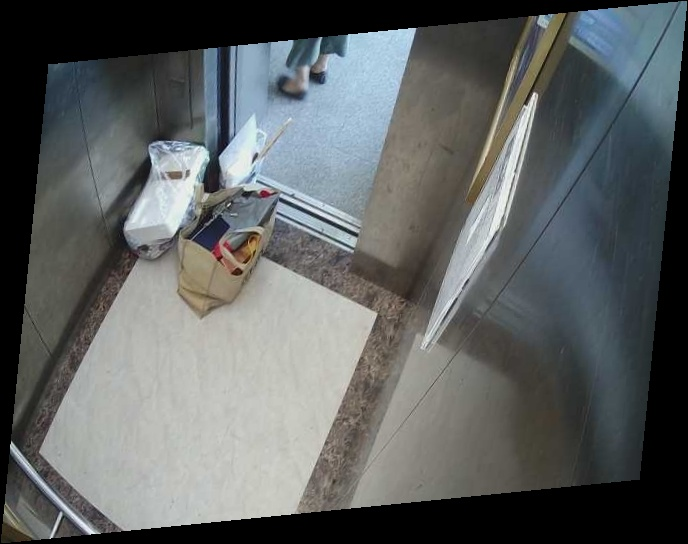box: (103, 109, 360, 334)
